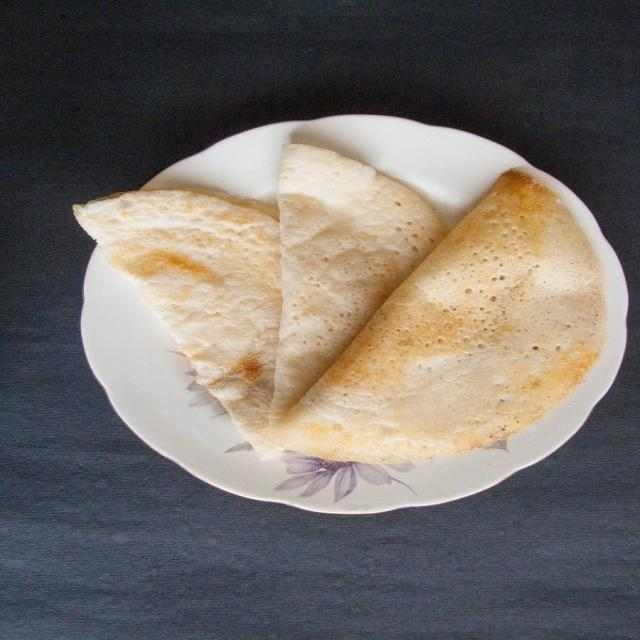plain dosa: (272, 174, 608, 464), (73, 203, 324, 486), (258, 154, 426, 445)
